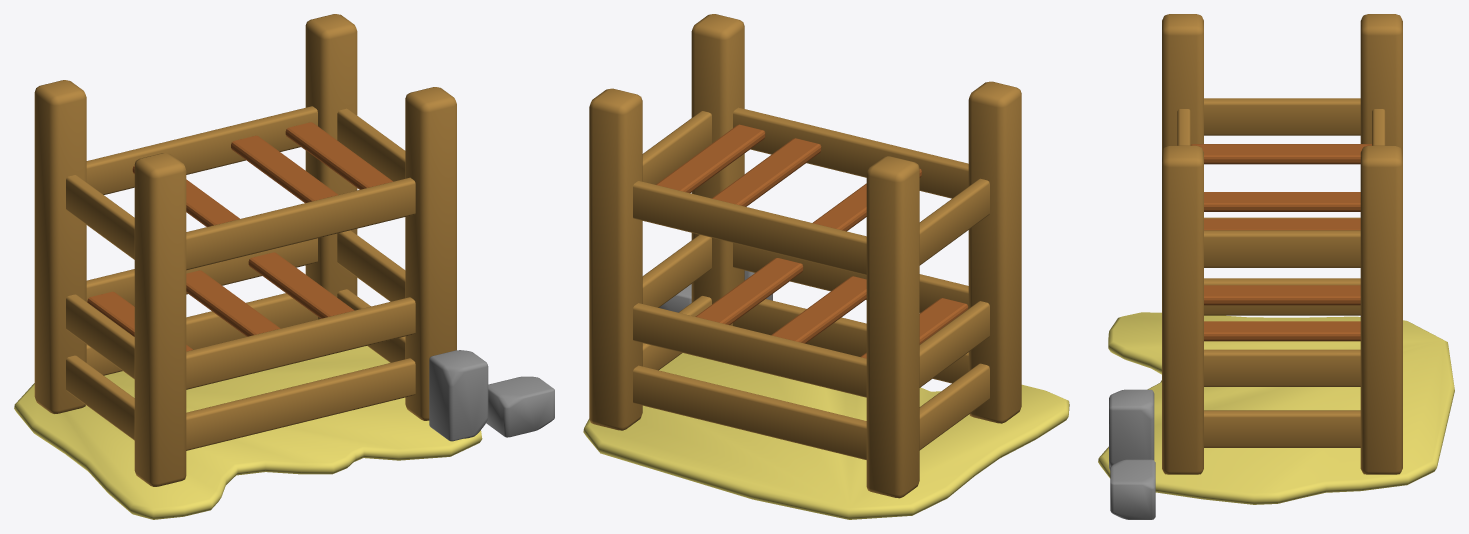
File: under contruction.fbx
3 views of the same model, side by side, from view 1: azimuth 30°, elevation 25°; view 2: azimuth 150°, elevation 25°; view 3: azimuth 270°, elevation 25° (orthographic). The views are drawn at different scales.
Visible parts, largest first — view 1: Cube.018, Cube.023, Cube.025, Cube.024, Cube.027, Cube.028, Cube.029, Cube.026, Cube.031, Cube.017, Cube.022, Cube.019 (+13 smaller); view 2: Cube.018, Cube.025, Cube.026, Cube.023, Cube.031, Cube.022, Cube.030, Cube.024, Cube.029, Cube.027, Cube.028, Cube.032 (+11 smaller); view 3: Cube.018, Cube.026, Cube.024, Cube.034, Cube.035, Cube.036, Cube.037, Cube.025, Cube.023, Cube.040, Cube.038, Cube.039 (+7 smaller).
Part boxes in pixels (<box>): Cube.018: <box>14,346,482,519</box>; Cube.023: <box>134,153,186,486</box>; Cube.025: <box>34,80,86,413</box>; Cube.024: <box>405,87,456,420</box>; Cube.027: <box>186,358,415,450</box>; Cube.028: <box>186,297,415,389</box>; Cube.029: <box>186,177,415,270</box>; Cube.026: <box>305,14,357,319</box>; Cube.031: <box>86,106,317,194</box>; Cube.017: <box>429,350,488,441</box>; Cube.022: <box>86,293,317,375</box>; Cube.019: <box>486,376,554,437</box>; Cube.018: <box>583,353,1069,519</box>; Cube.025: <box>866,156,919,498</box>; Cube.026: <box>589,88,642,430</box>; Cube.023: <box>968,81,1021,423</box>; Cube.031: <box>633,181,866,275</box>; Cube.022: <box>633,365,866,459</box>; Cube.030: <box>633,303,866,397</box>; Cube.024: <box>691,14,744,325</box>; Cube.029: <box>733,107,968,198</box>; Cube.027: <box>733,299,968,383</box>; Cube.028: <box>733,243,968,312</box>; Cube.032: <box>919,363,989,450</box>; Cube.018: <box>1098,312,1454,504</box>; Cube.026: <box>1360,145,1402,474</box>; Cube.024: <box>1162,145,1203,474</box>; Cube.034: <box>1204,98,1360,135</box>; Cube.035: <box>1204,410,1360,447</box>; Cube.036: <box>1204,349,1360,386</box>; Cube.037: <box>1204,230,1360,267</box>; Cube.025: <box>1360,14,1402,152</box>; Cube.023: <box>1162,14,1203,151</box>; Cube.040: <box>1190,144,1371,164</box>; Cube.038: <box>1204,321,1360,341</box>; Cube.039: <box>1204,285,1360,305</box>.
Size of the model in its own units: 135 by 103 by 102.
